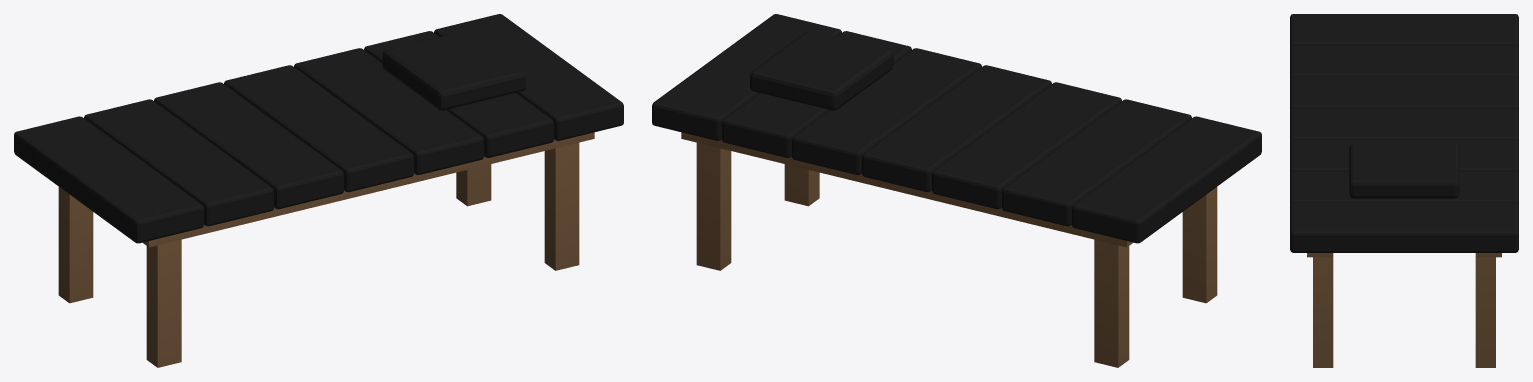
Rendered from forest_workbench.glb.
3 views of the same model, side by side, from view 1: azimuth 30°, elevation 25°; view 2: azimuth 150°, elevation 25°; view 3: azimuth 270°, elevation 25° (orthographic). The views are drawn at different scales.
Parts seen in each view (by area): view 1: forest_workbench_painted_export; view 2: forest_workbench_painted_export; view 3: forest_workbench_painted_export.
Part boxes in pixels (x1=…): forest_workbench_painted_export: x1=14, y1=14, x2=623, y2=367; forest_workbench_painted_export: x1=652, y1=14, x2=1261, y2=367; forest_workbench_painted_export: x1=1290, y1=14, x2=1518, y2=367.
Bounding box in the file's own units: 3.07 × 1.12 × 1.35.
